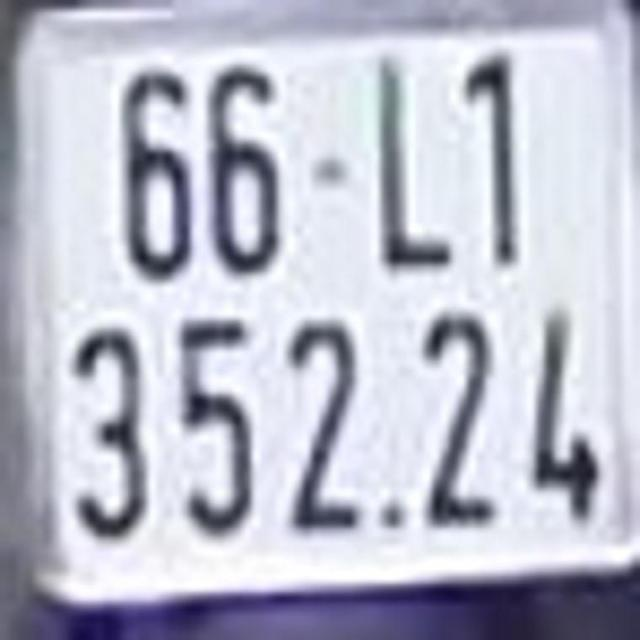1: (460, 47, 530, 267)
2: (418, 302, 498, 532), (285, 313, 363, 538)
3: (72, 326, 148, 542)
4: (525, 300, 603, 526)
5: (176, 313, 259, 538)
6: (113, 70, 199, 276), (203, 61, 282, 274)
L: (372, 51, 454, 276)
